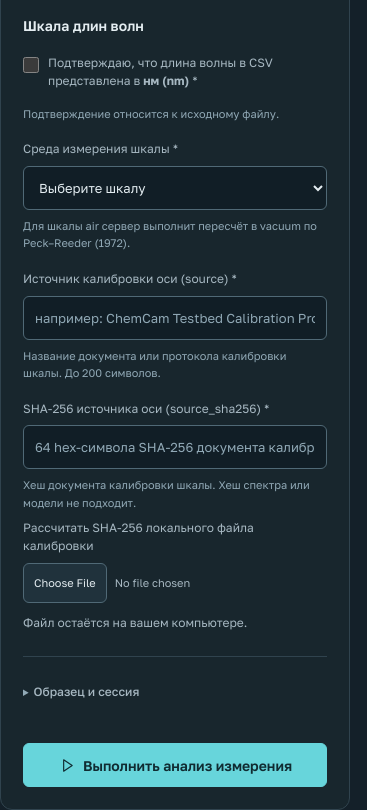
Measured page scenarios › blocks submission when mandatory fields are missing and displays inline errors
(page scrolled)
What coordinates should you click on to do the following:
click the button "Выполнить анализ измерения"
I would click on:
 (175, 765)
Its box is [23,743,327,787].
(page scrolled)
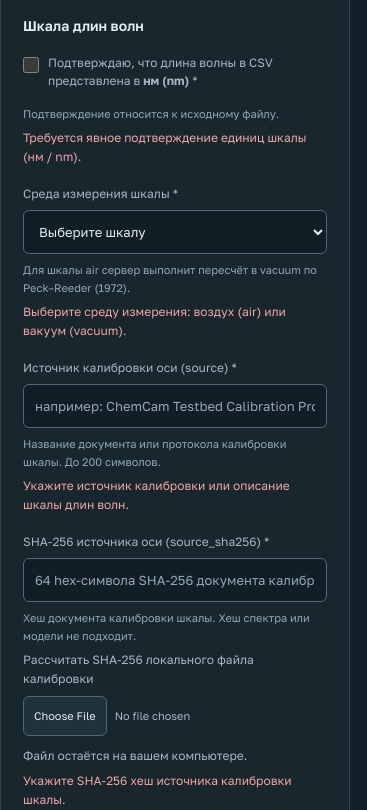
Check: the text "Требуется явное подтверждение единиц шкалы (нм / nm)." is shown, box [23,129,327,167]
Check: the text "Выберите среду измерения: воздух (air) или вакуум (vacuum)." is shown, box [23,303,327,341]
Check: the text "Укажите источник калибровки или описание шкалы длин волн." is shown, box [23,477,327,515]
